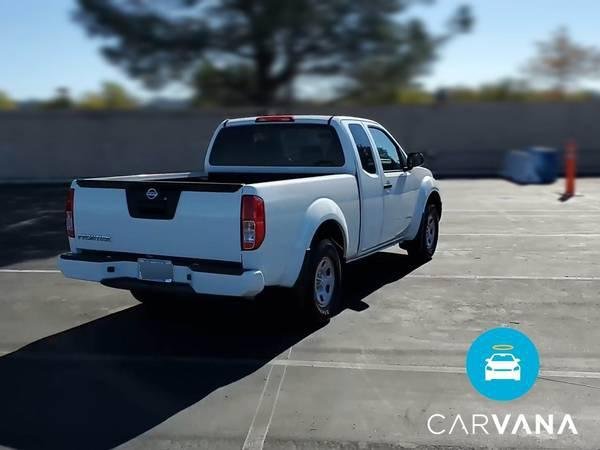Front_Fender: (406, 166, 438, 239)
Front_Right_Door: (377, 169, 413, 246)
Front_Right_Window: (365, 120, 415, 174)
Left_Taillight: (64, 194, 74, 241)
Rear_Bumper: (57, 256, 264, 300)
Rear_Fender: (241, 175, 361, 287)
Rear_Right_Door: (357, 175, 383, 255)
Rear_Right_Window: (339, 117, 381, 177)
Rear_Windshield: (205, 115, 358, 173)
Right_Taillight: (242, 195, 268, 252)
Tailgate: (68, 182, 257, 265)
Wheel: (300, 242, 346, 319), (407, 203, 440, 261)
